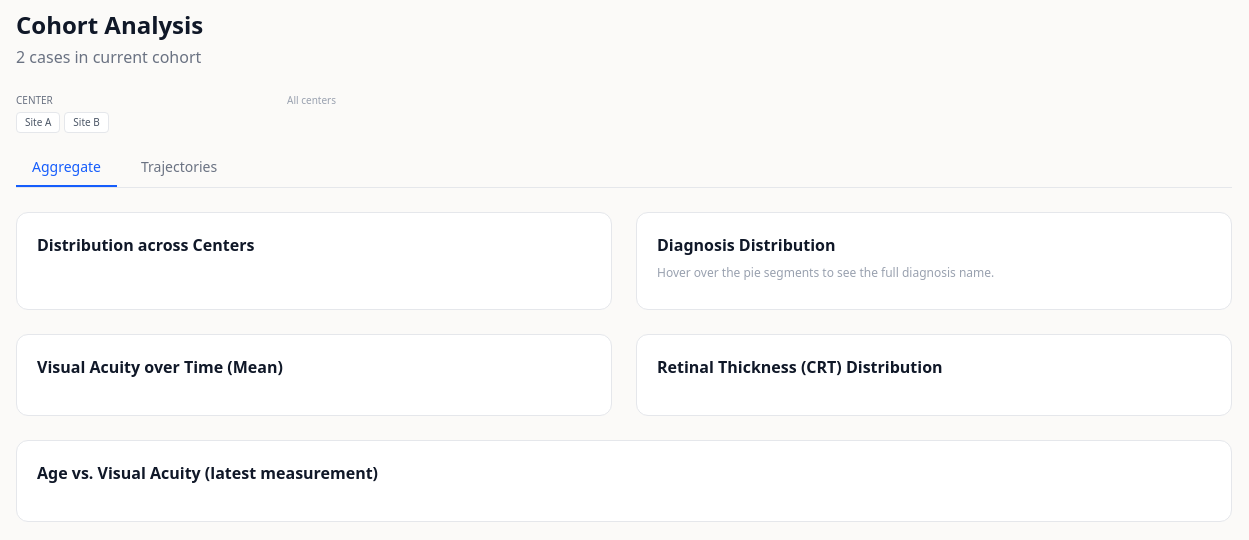
Test case: AnalysisPage — CenterMultiSelect center filter (SC-4) › client-side narrowing: clicking a center button narrows visible case count
Expected: the text "2 cases in current cohort" is shown, x1=16 y1=46 x2=201 y2=68
Note: Click "Site A" center button to narrow to only Site A cases
Click the button "Site A" at {"x": 38, "y": 122}, box x1=16 y1=112 x2=60 y2=133
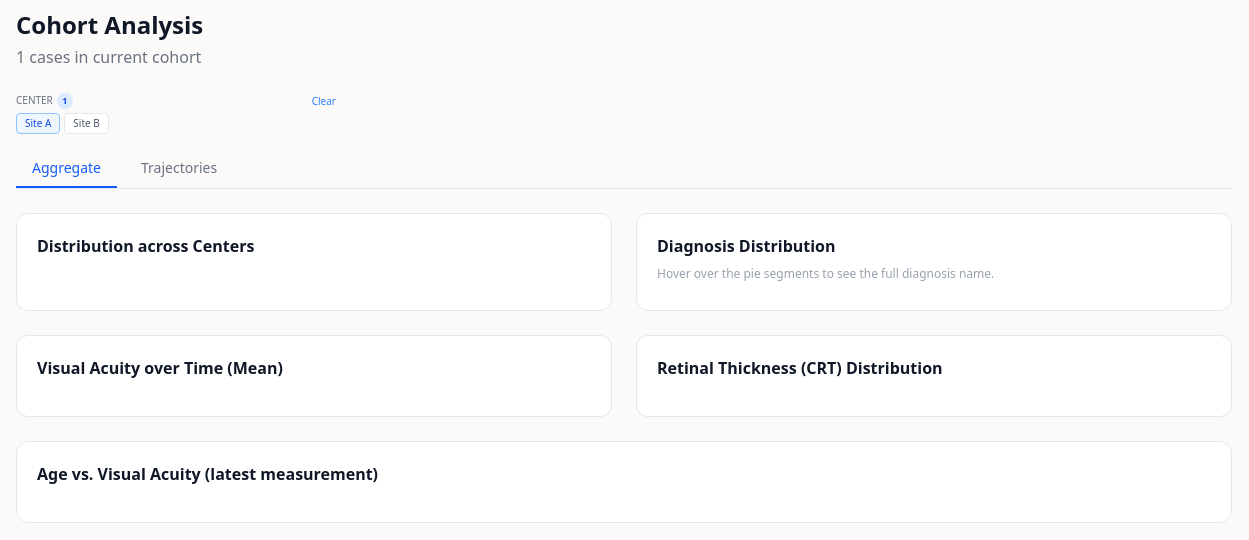
Result: the text "1 cases in current cohort" is shown at x1=16 y1=46 x2=201 y2=68
Result: the text "2 " is gone
